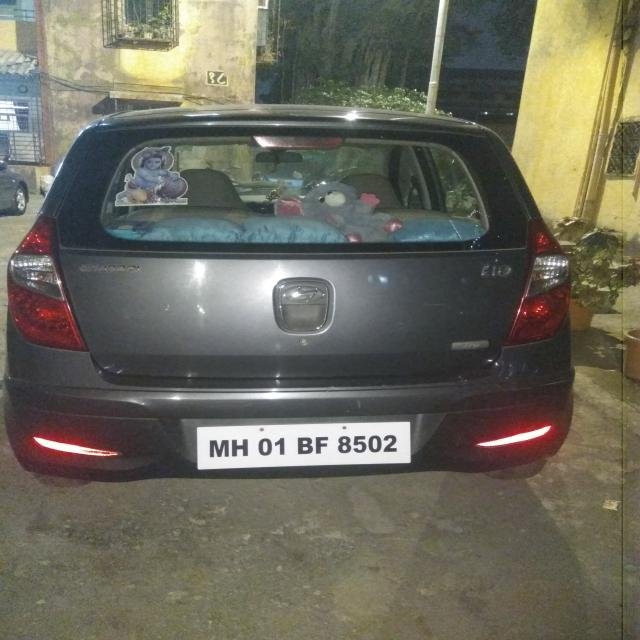Number-Plate: (202, 423, 412, 466)
